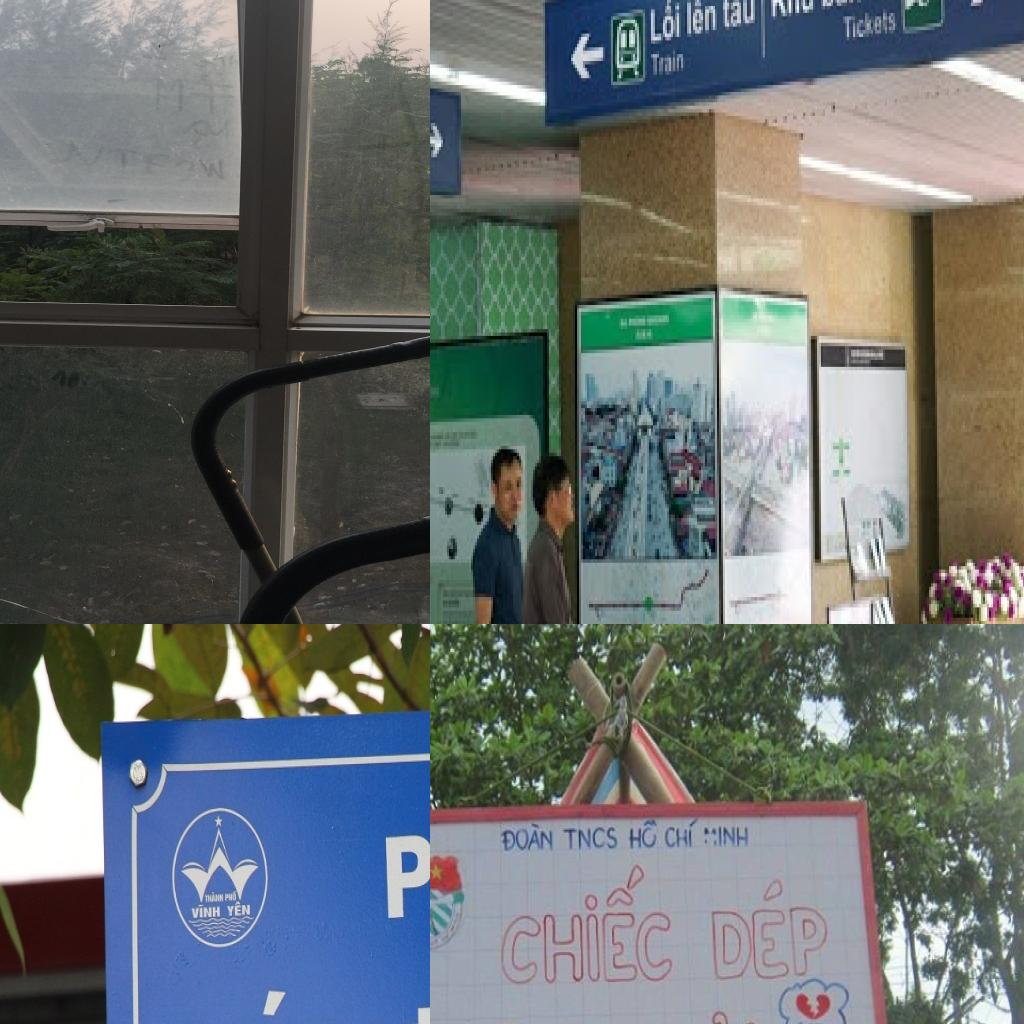text: (501, 854, 673, 986), (710, 876, 831, 980), (383, 779, 430, 921), (152, 73, 238, 117), (647, 0, 685, 50), (500, 821, 555, 854), (685, 0, 723, 43), (647, 47, 687, 85), (719, 0, 759, 33), (563, 827, 618, 851), (767, 0, 815, 26), (664, 817, 702, 848), (182, 118, 230, 142), (628, 818, 660, 850), (704, 827, 750, 848), (817, 0, 865, 20), (190, 902, 222, 922), (226, 898, 252, 918), (204, 890, 225, 905), (225, 888, 238, 904)
